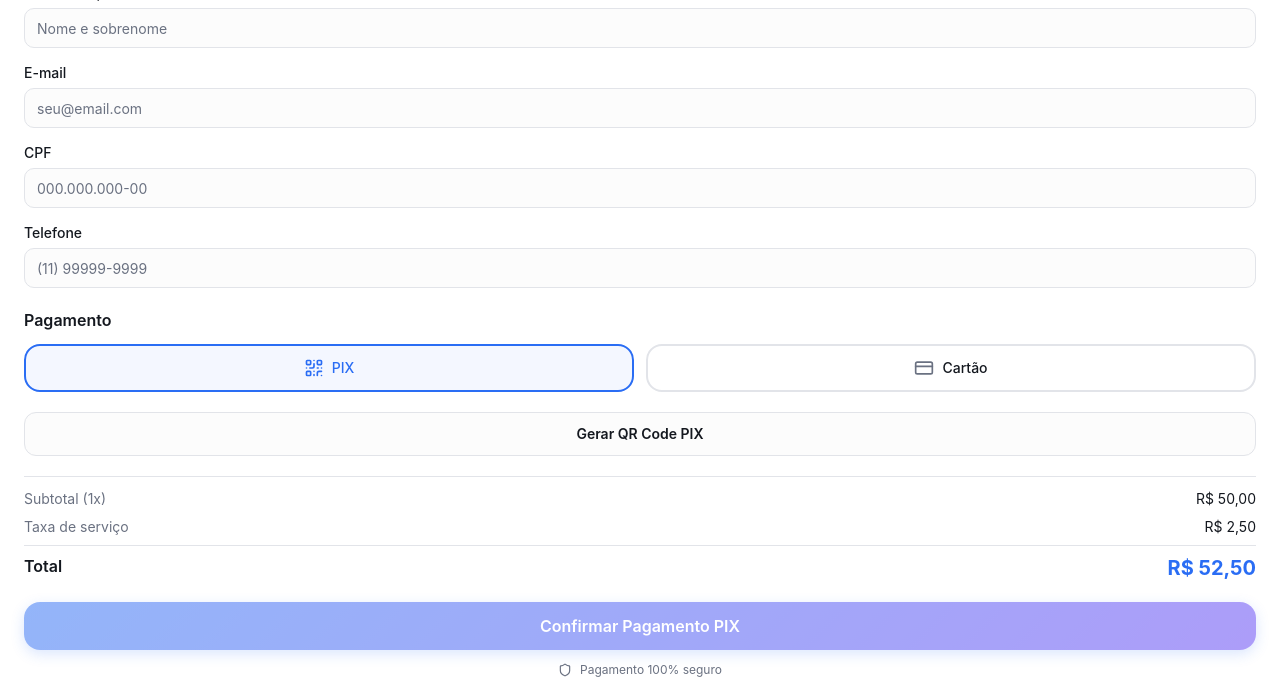
Test: CheckoutPanel (desktop) – validação inline › limpa cada erro assim que o valor digitado fica válido (mantém a máscara de CPF)
(page scrolled)
Click the button "Gerar QR Code PIX" at {"x": 640, "y": 434}, box [24,412,1256,456]
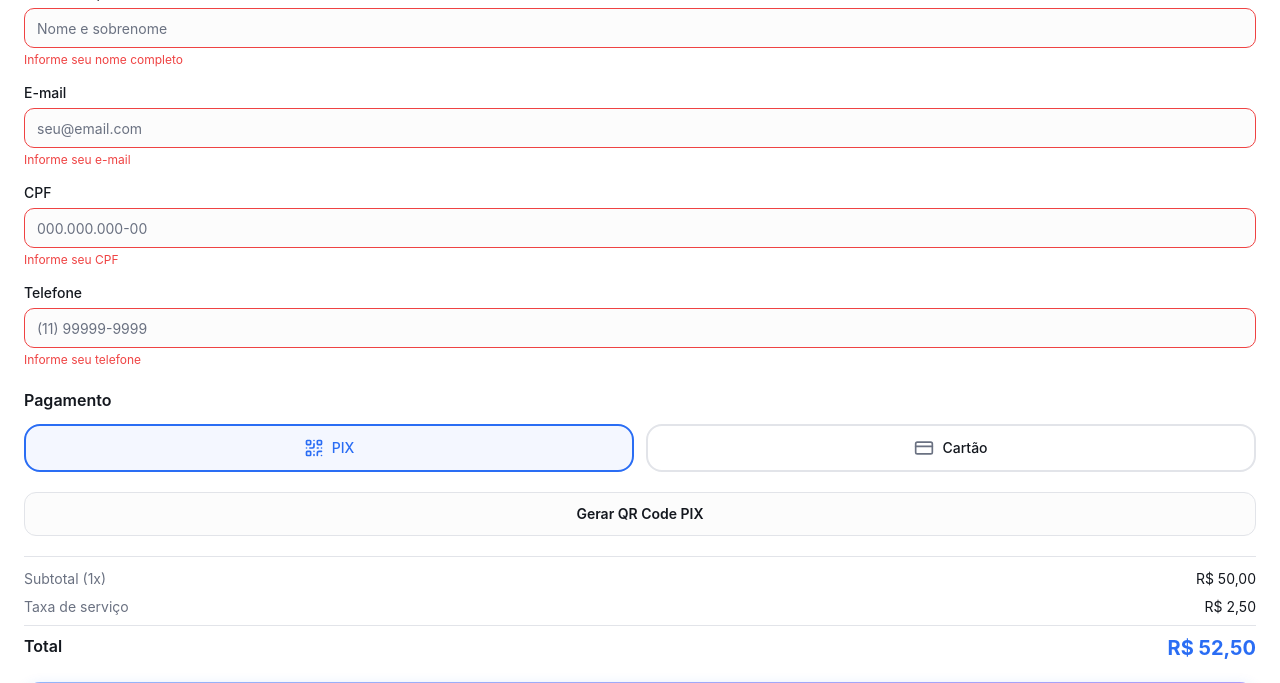
Type "52998224725" into the field labelled "CPF" at {"x": 640, "y": 228}, box [24,208,1256,248]
(page scrolled)
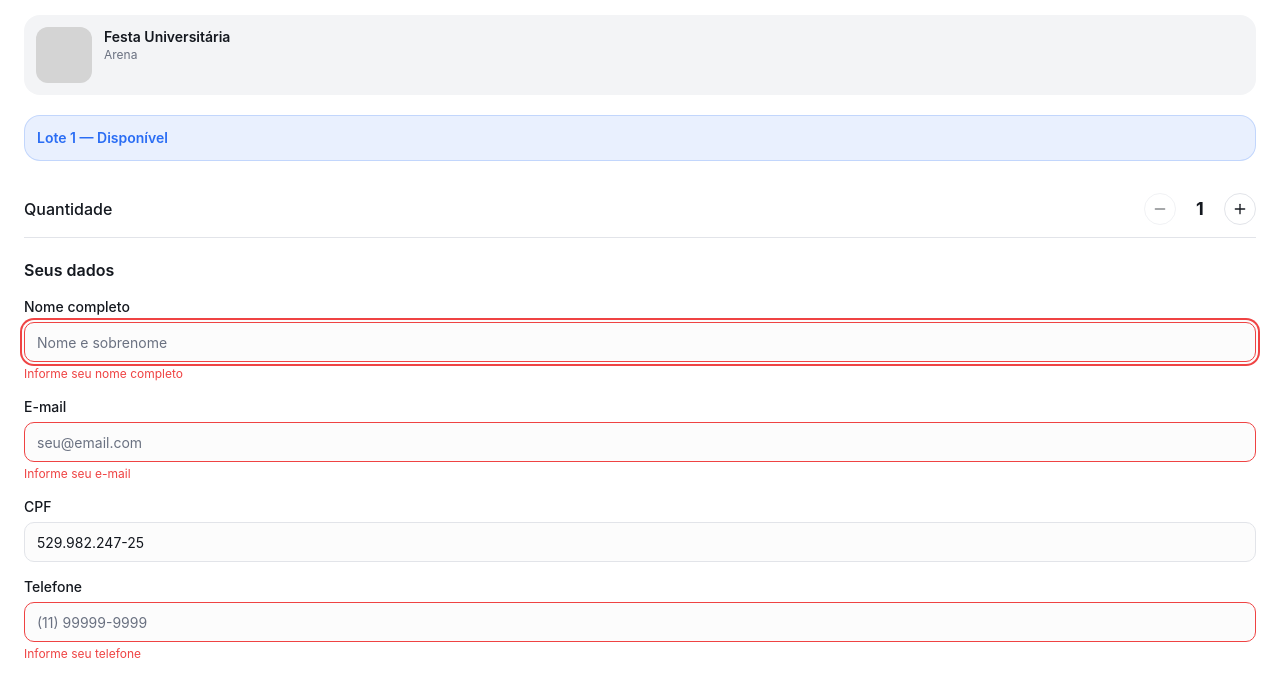
Check: the text "Informe seu e-mail" is shown, box [24,466,131,481]
Check: the text "Informe seu CPF" is gone
Check: the field labelled "CPF" holds "529.982.247-25", box [24,522,1256,562]
